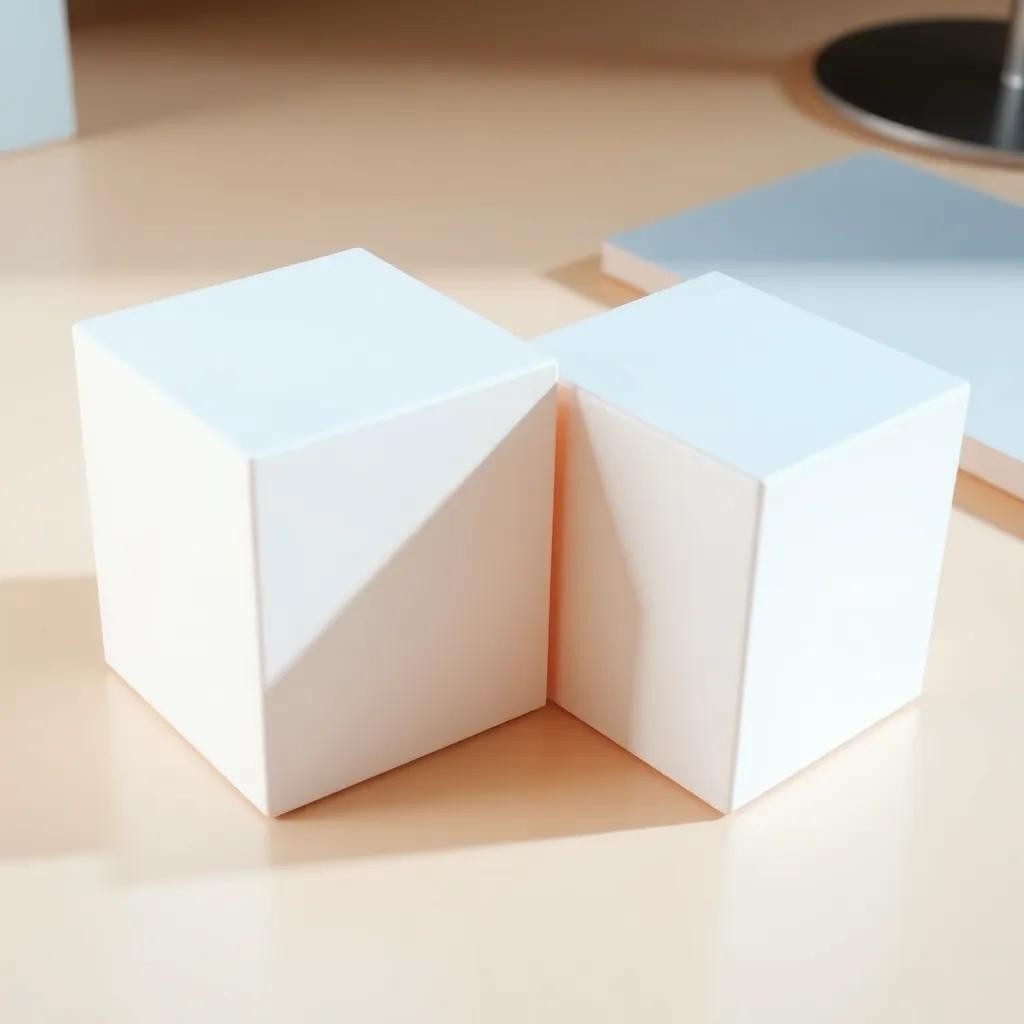cube: (71, 244, 559, 818), (527, 266, 972, 814)
